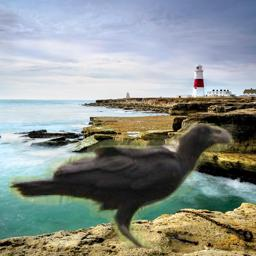Crow: (8, 123, 234, 249)
